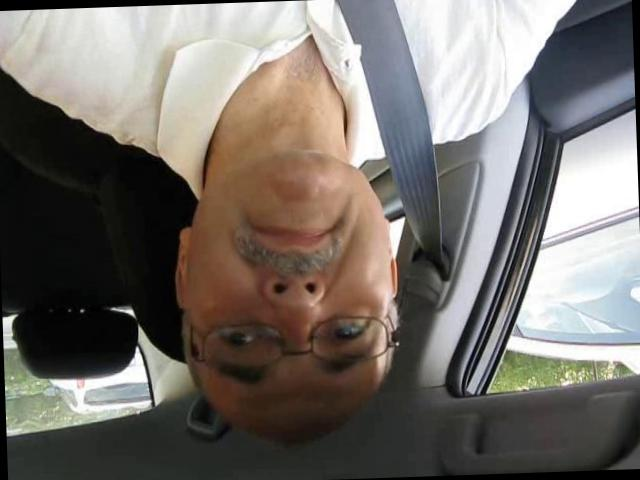eye_open: (319, 319, 374, 351), (216, 328, 264, 352)
face: (198, 146, 402, 402)
